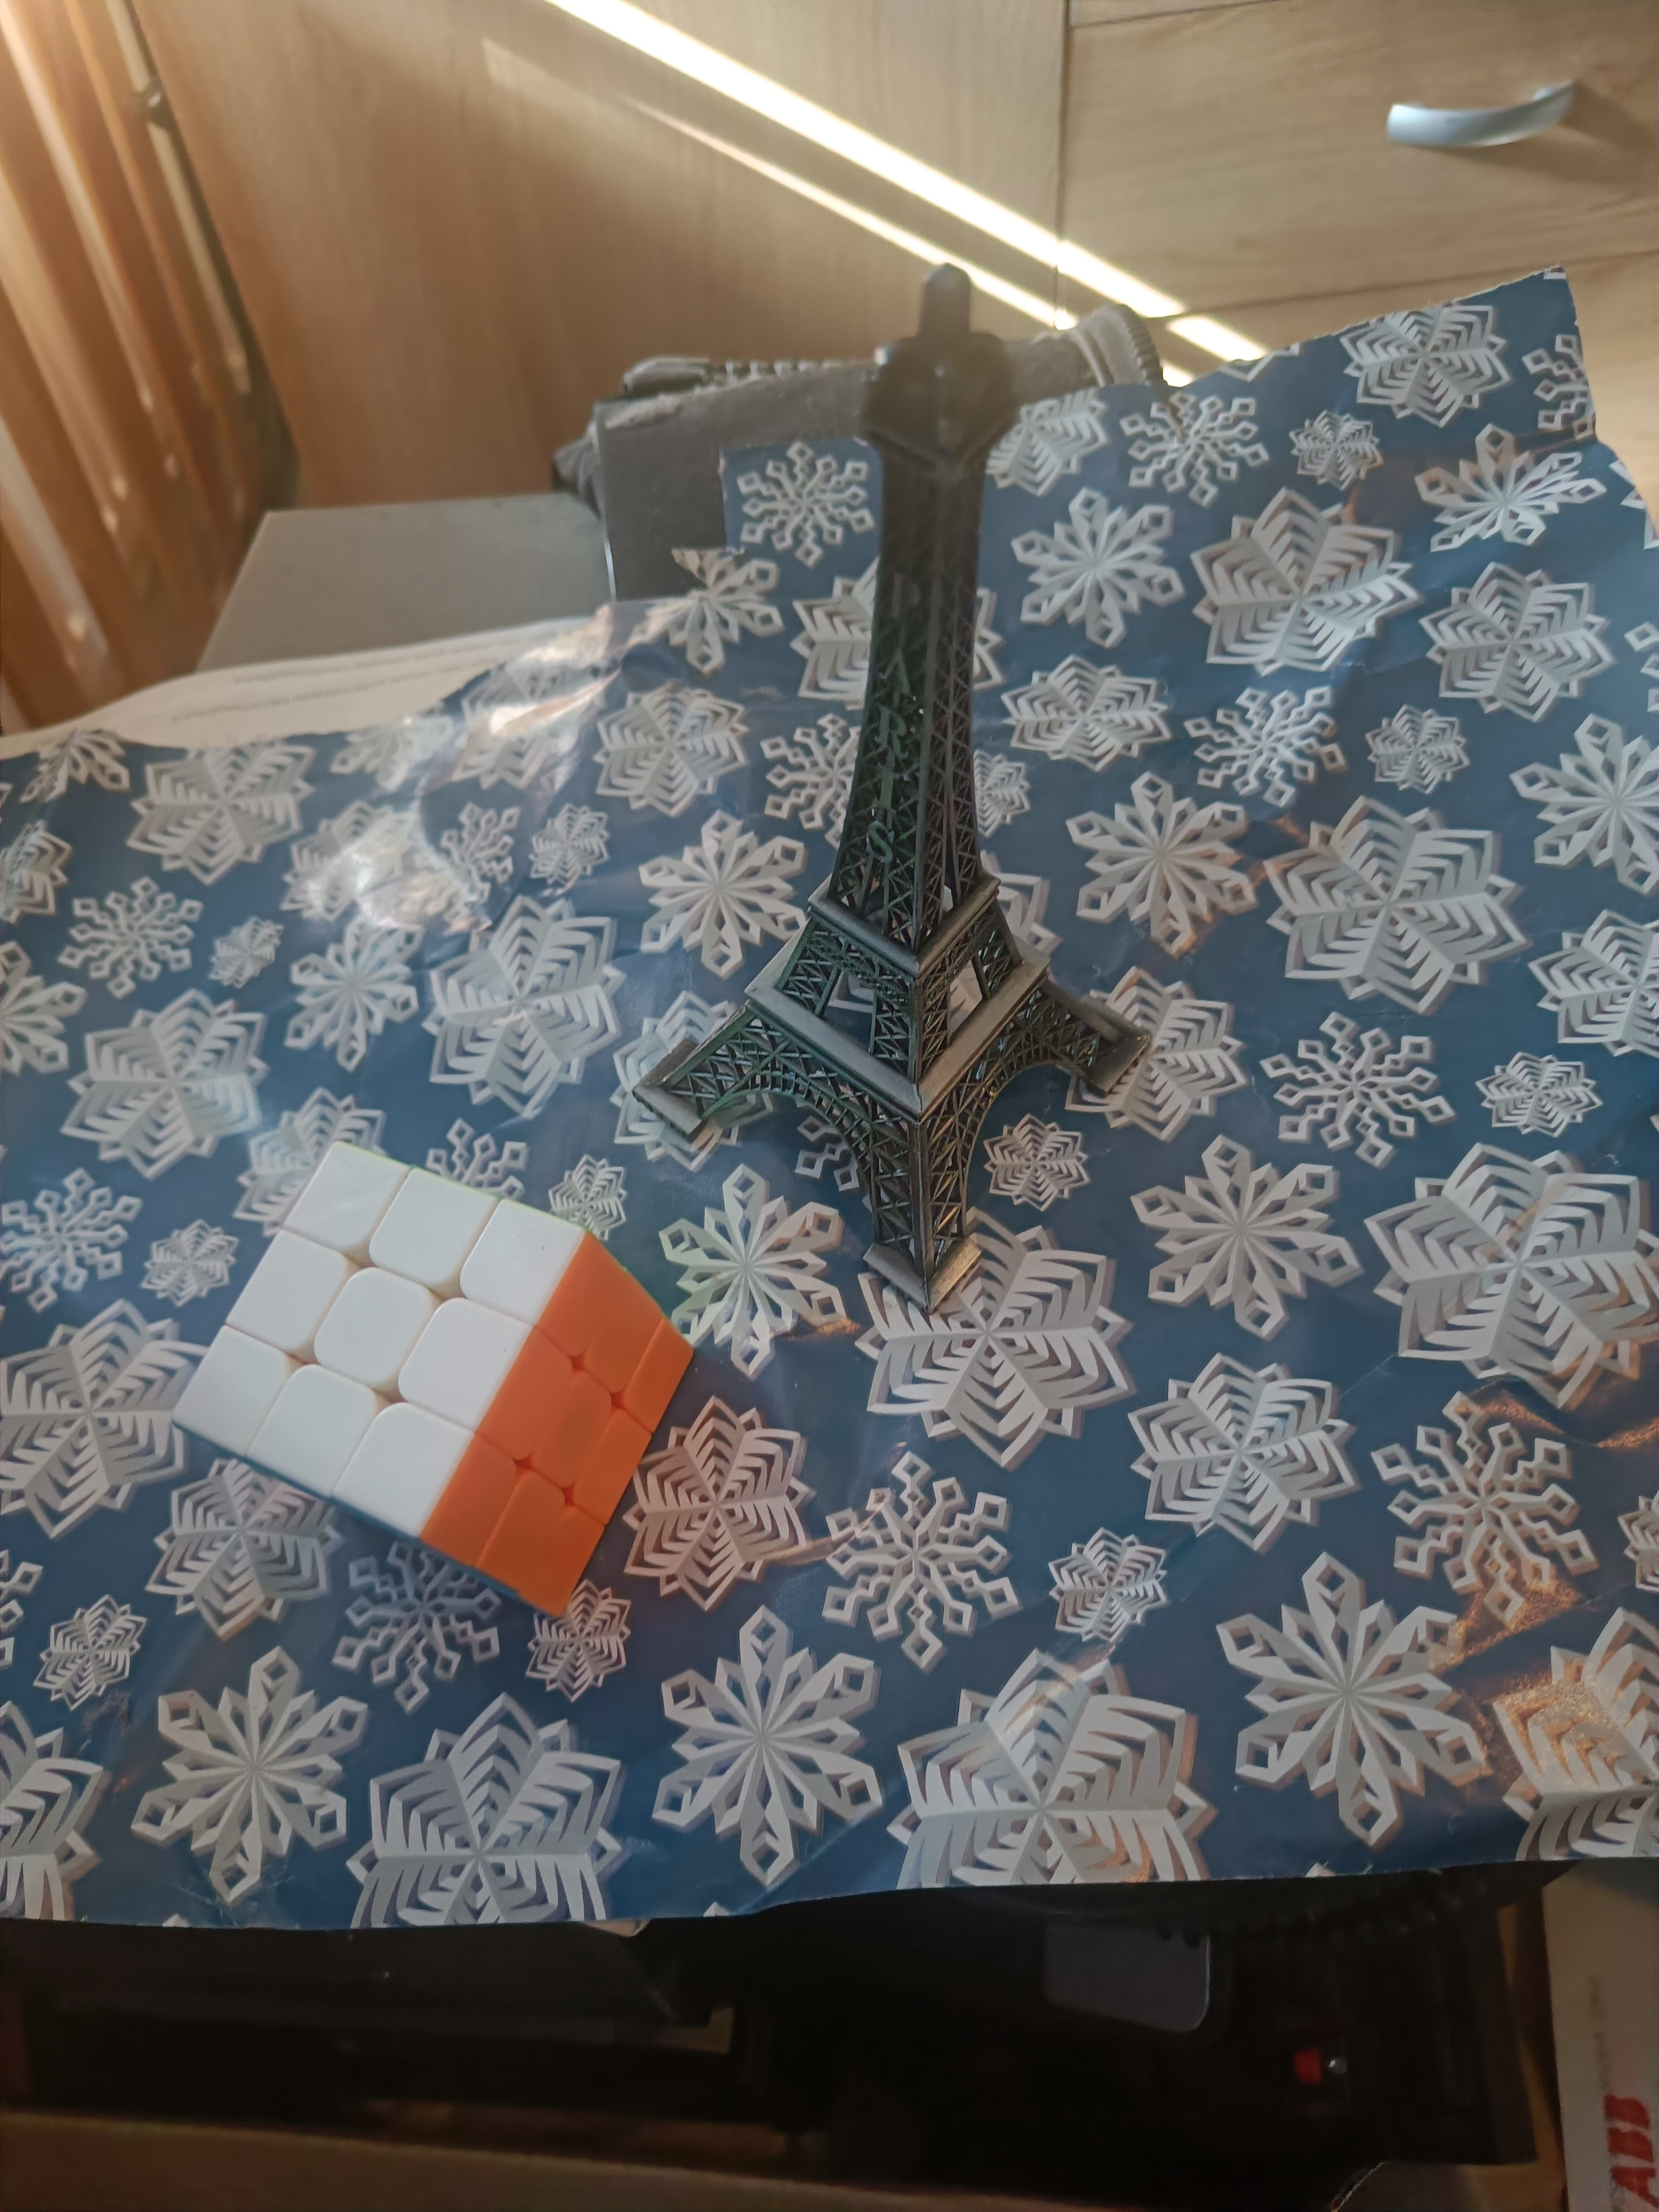Eiffel Tower: (624, 260, 1161, 1312)
Rubiks Cube: (178, 1118, 697, 1629)
